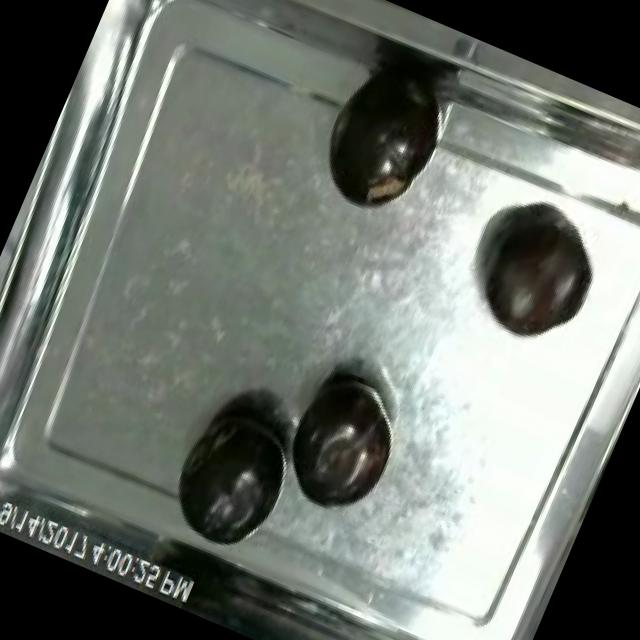Fruit: (152, 388, 312, 564), (298, 62, 457, 234), (263, 357, 419, 532), (460, 190, 614, 360)
